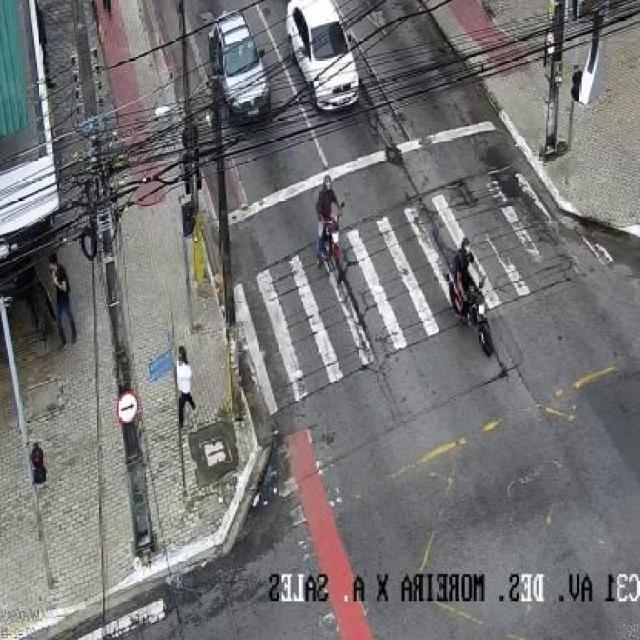Car: (280, 0, 372, 121), (195, 0, 282, 124)
Cycle: (431, 216, 513, 358), (300, 157, 377, 279)
